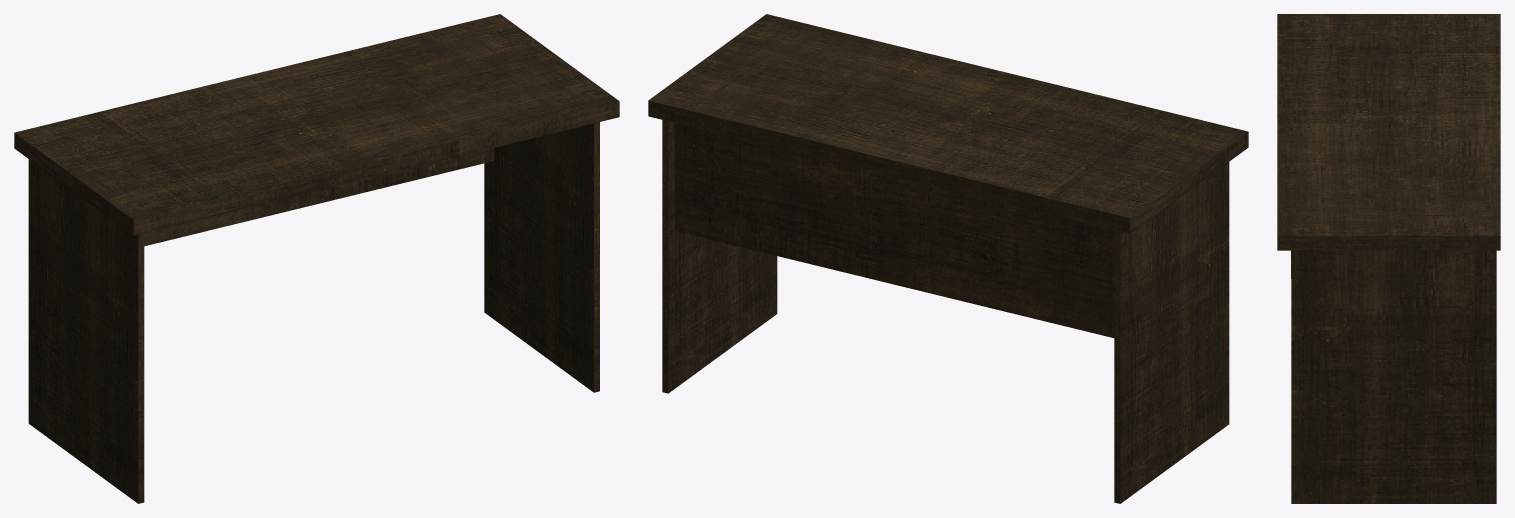
File: table_large_3_3.glb
The picture shows the model from 3 angles, left to right: view 1: azimuth 30°, elevation 25°; view 2: azimuth 150°, elevation 25°; view 3: azimuth 270°, elevation 25°; orthographic projection. The views are drawn at different scales.
Visible parts, largest first — view 1: table_large_3_3; view 2: table_large_3_3; view 3: table_large_3_3.
Part boxes in pixels (x1,y1,x2,y2): table_large_3_3: (14, 14, 619, 503); table_large_3_3: (648, 14, 1248, 503); table_large_3_3: (1277, 14, 1500, 503).
Size of the model in its own units: 1.6 by 0.92 by 0.68.
Materials: 1 (1 with a texture image).
